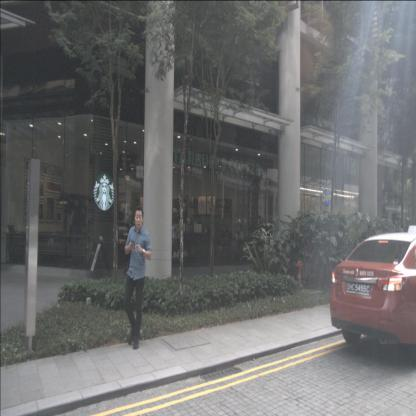human-pedestrian-adult: (124, 206, 152, 350)
vehicle-car: (330, 232, 415, 350)
